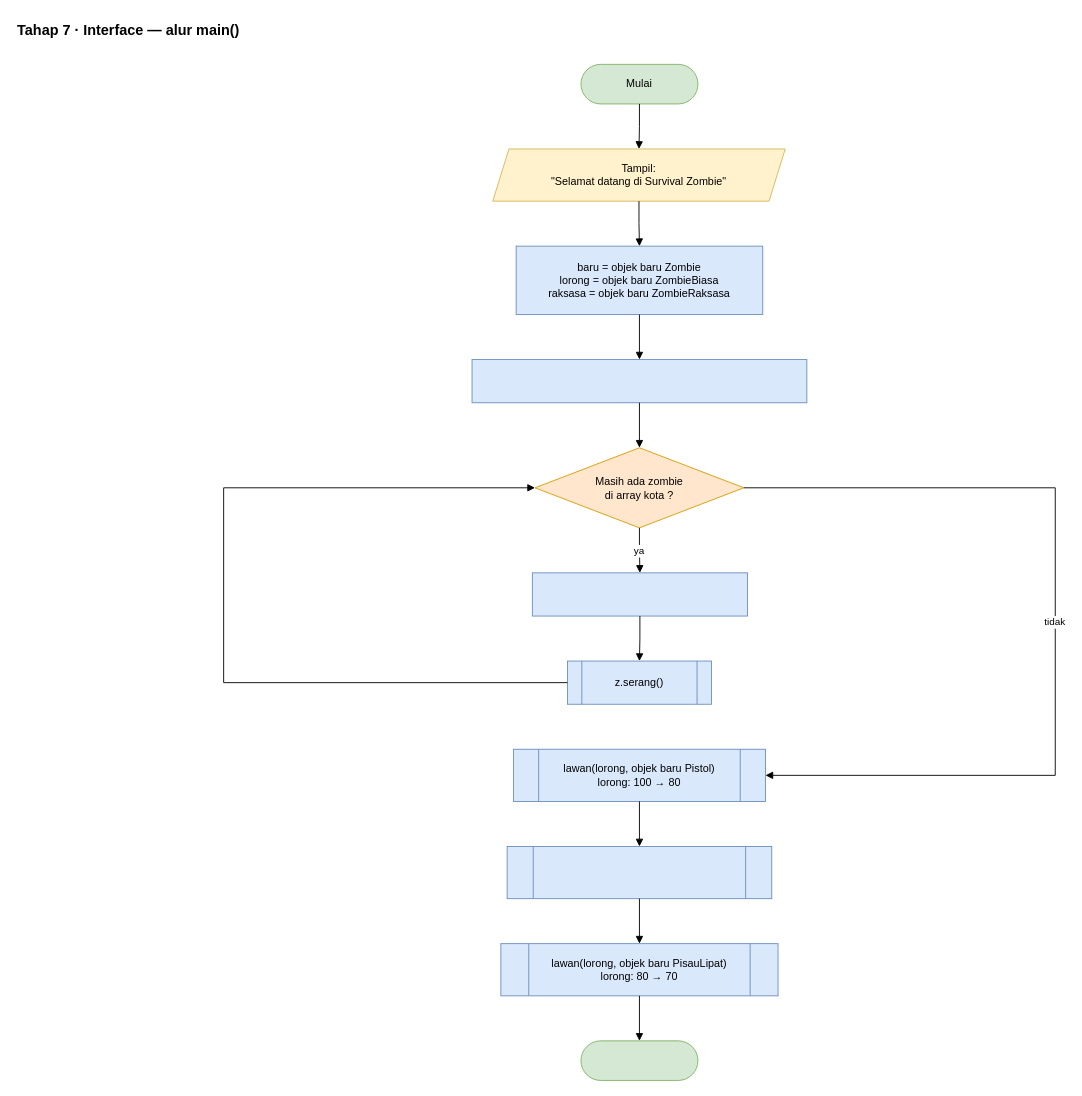
Some shapes in this 1082 by 1096 pixel diagram are drawn without their labels. The box of each missing label's shape, as (x1, y1, x2, y2) in pixels:
kota = array Zombie[ ] { baru, lorong, raksasa }: (471, 359, 807, 403)
lawan(raksasa, objek baru Shotgun) raksasa: 100 → 50: (506, 846, 772, 899)
Selesai: (580, 1040, 698, 1080)
z = zombie berikutnya di kota: (531, 572, 747, 616)
